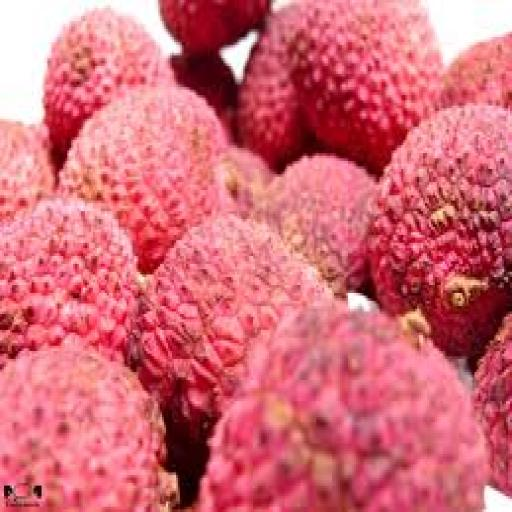lychee: (198, 304, 486, 511), (133, 217, 330, 496), (370, 106, 511, 356), (60, 88, 227, 271), (0, 346, 177, 511), (289, 0, 442, 171), (0, 198, 138, 366), (44, 8, 171, 158), (257, 156, 375, 295), (238, 3, 310, 168), (475, 315, 511, 496), (161, 0, 270, 52), (171, 53, 237, 137), (0, 122, 55, 221), (441, 35, 511, 108), (218, 146, 274, 216)
